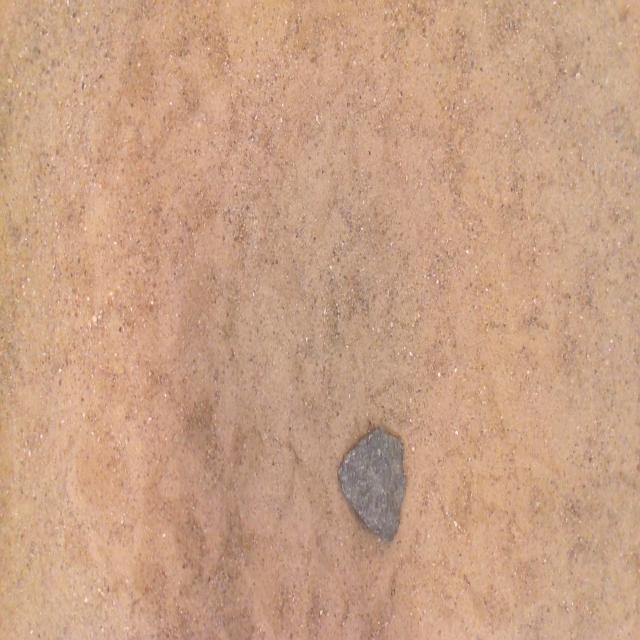rock: (339, 428, 406, 542)
